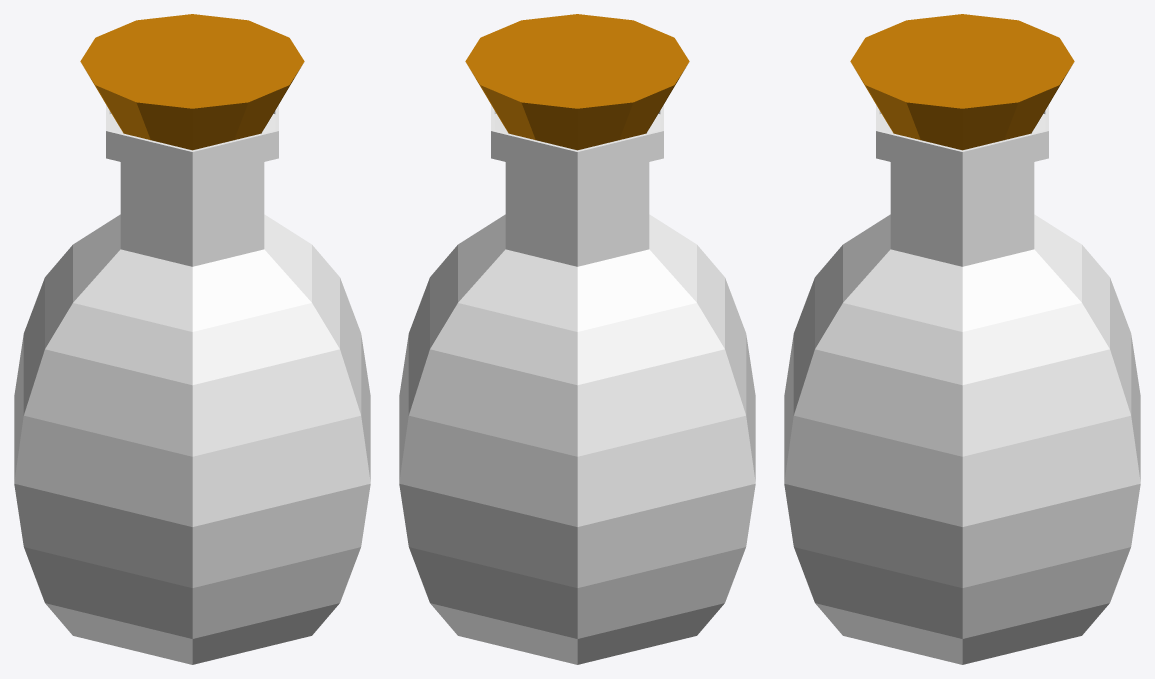
Rendered from Potion_01.fbx.
The picture shows the model from 3 angles, left to right: view 1: azimuth 30°, elevation 25°; view 2: azimuth 150°, elevation 25°; view 3: azimuth 270°, elevation 25°; orthographic projection.
Parts seen in each view (by area): view 1: Potion_01; view 2: Potion_01; view 3: Potion_01.
Part boxes in pixels (x1,y1,x2,y2): Potion_01: (14,14,370,664); Potion_01: (399,14,755,664); Potion_01: (784,14,1140,664).
Bounding box in the file's own units: 10.15 × 14.83 × 8.79.
